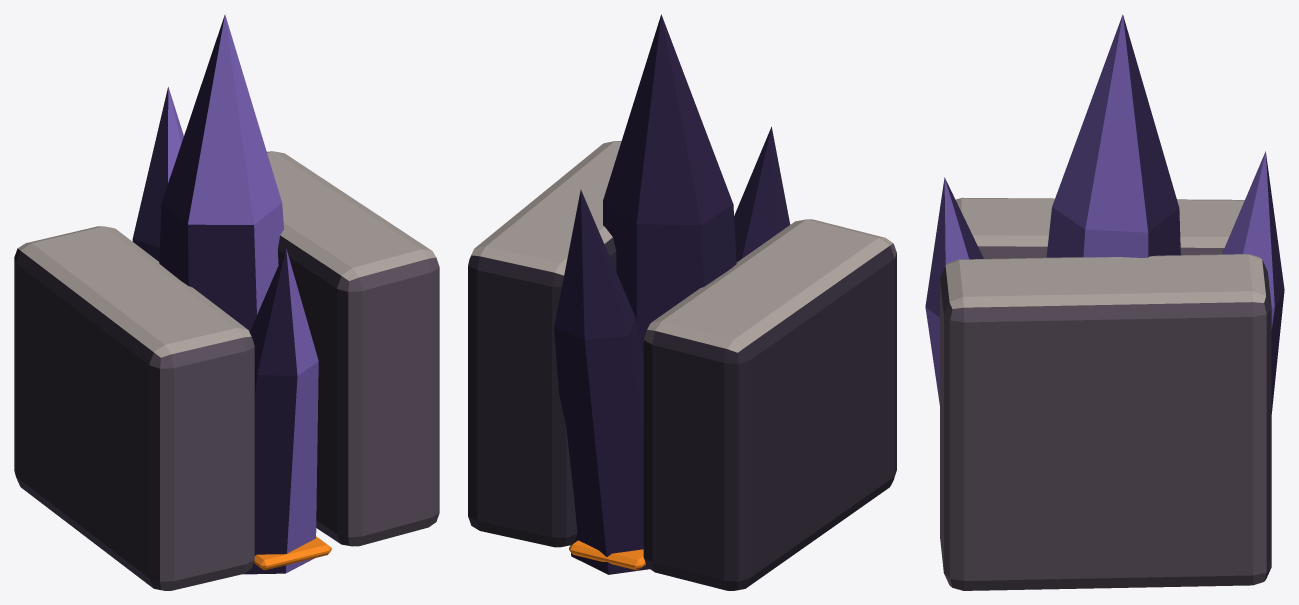
The model's file is ObsidianWall.fbx.
3 renders of one model, left to right at view 1: azimuth 30°, elevation 25°; view 2: azimuth 150°, elevation 25°; view 3: azimuth 270°, elevation 25°, orthographic. The views are drawn at different scales.
Visible parts, largest first — view 1: ObsidianWall; view 2: ObsidianWall; view 3: ObsidianWall.
Part boxes in pixels (x1=…): ObsidianWall: x1=14, y1=14, x2=439, y2=590; ObsidianWall: x1=468, y1=14, x2=896, y2=590; ObsidianWall: x1=925, y1=14, x2=1284, y2=590.
Bounding box in the file's own units: 1.46 × 2.4 × 1.49.
2 materials, 2 textured.
